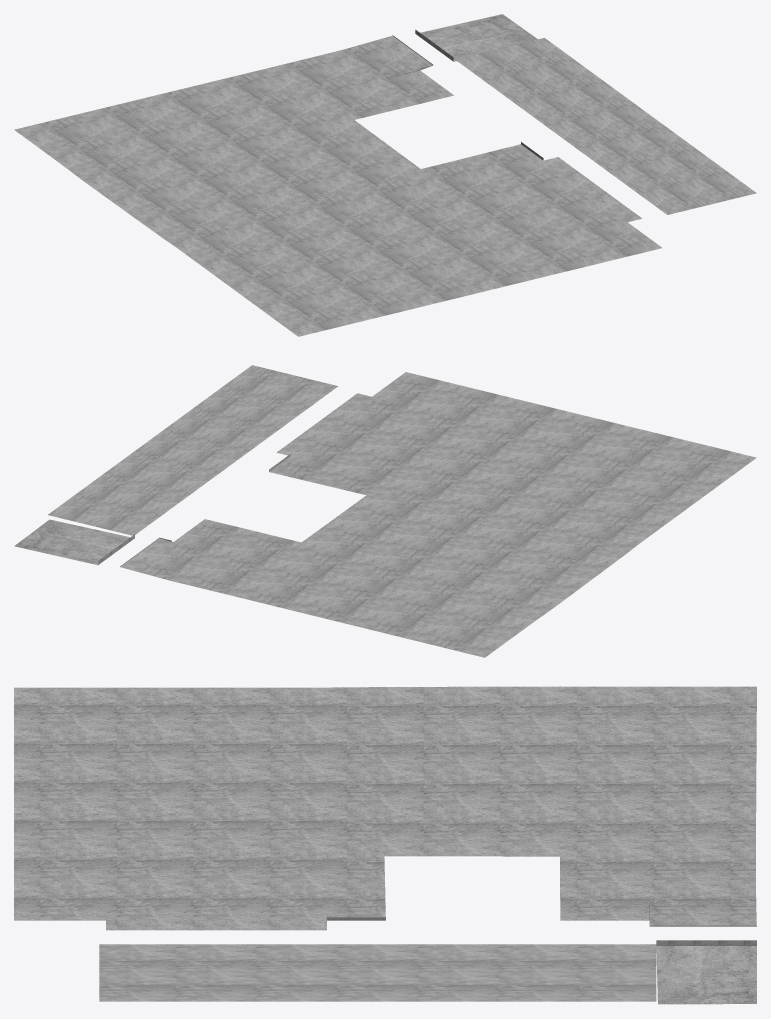
The picture shows the model from 3 angles, top to bottom: view 1: azimuth 30°, elevation 25°; view 2: azimuth 150°, elevation 25°; view 3: azimuth 270°, elevation 25°; orthographic projection. The views are drawn at different scales.
Visible parts, largest first — view 1: polySurface455; view 2: polySurface455; view 3: polySurface455.
Boxes of the visible parts, box(x1,y1,x2,y2) form: polySurface455: box(14, 14, 756, 336); polySurface455: box(14, 365, 756, 657); polySurface455: box(14, 686, 756, 1004).
Bounding box in the file's own units: 244 × 2.82 × 243.
1 material, 1 textured.
